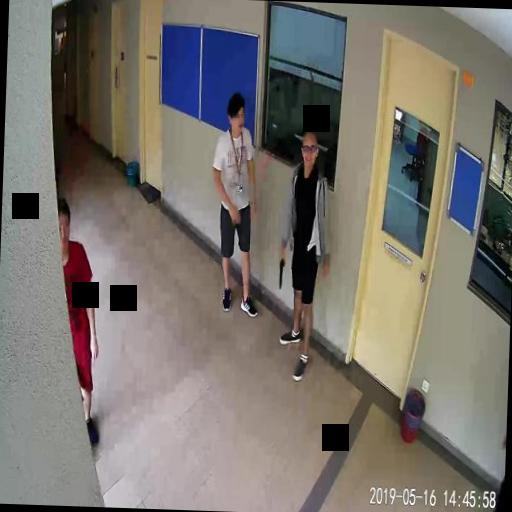Handgun: (277, 253, 284, 288)
